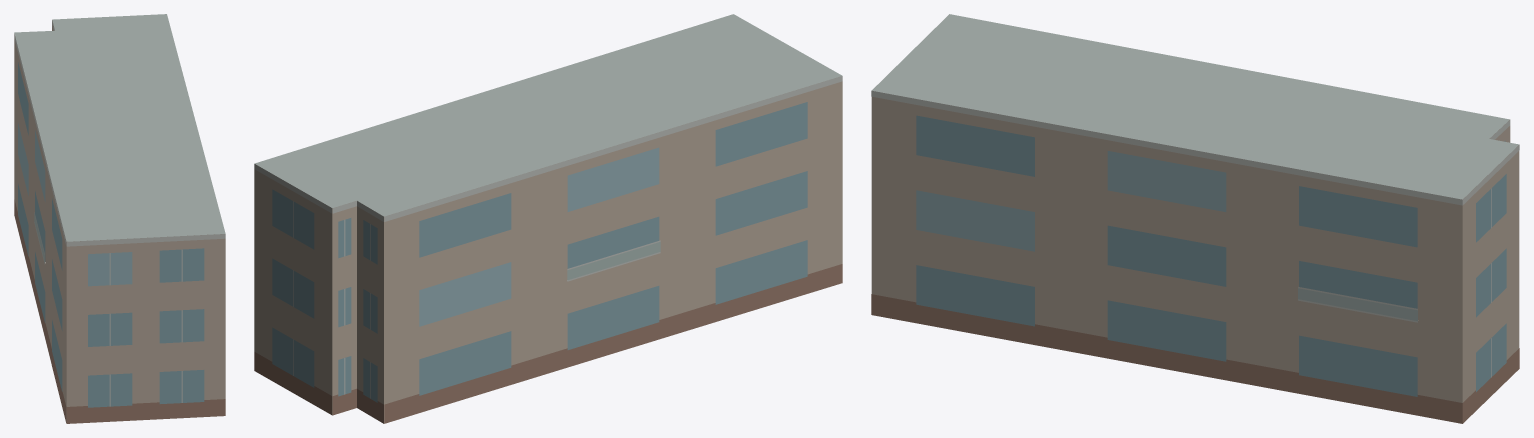
The model's file is survey-upis-32668616.glb.
3 views of the same model, side by side, from view 1: azimuth 30°, elevation 25°; view 2: azimuth 150°, elevation 25°; view 3: azimuth 270°, elevation 25° (orthographic). The views are drawn at different scales.
Visible parts, largest first — view 1: survey-upis-32668616.tmp; view 2: survey-upis-32668616.tmp; view 3: survey-upis-32668616.tmp.
Part boxes in pixels (x1,y1,x2,y2): survey-upis-32668616.tmp: (14,14,225,423); survey-upis-32668616.tmp: (254,14,842,423); survey-upis-32668616.tmp: (871,14,1519,423).
Bounding box in the file's own units: 16.24 × 9.15 × 23.97.
